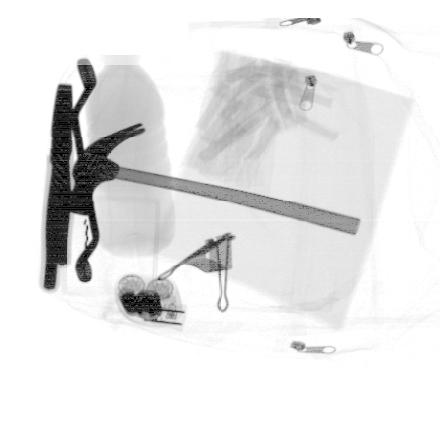Hammer: (64, 117, 366, 237)
Pliers: (41, 80, 73, 301)
Wrench: (68, 56, 102, 283)
